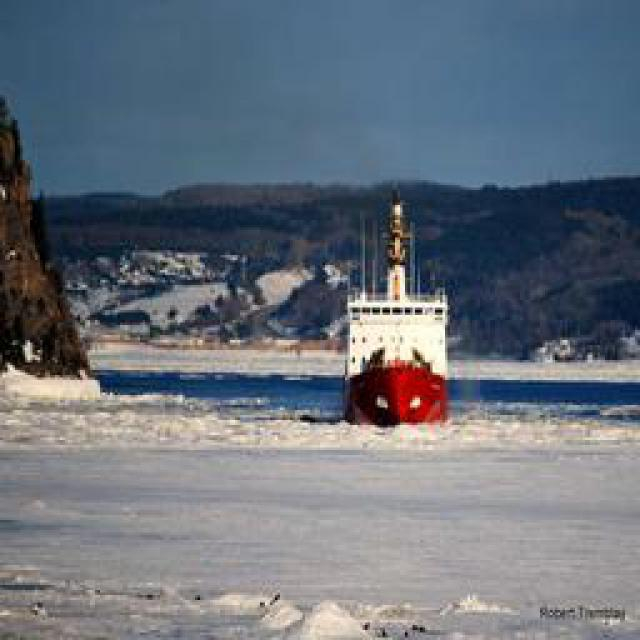Ship: (346, 186, 451, 429)
